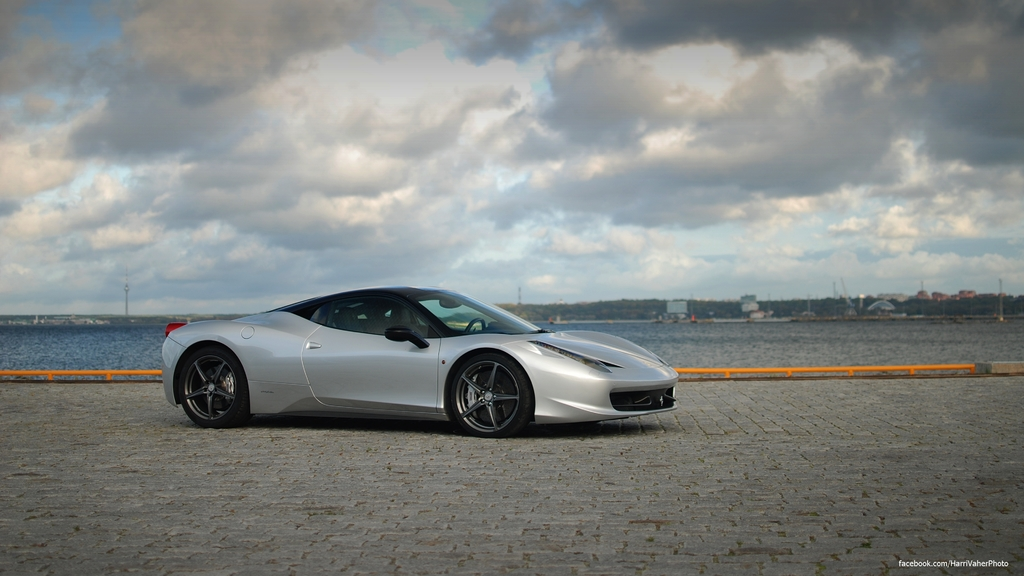Car: (161, 284, 678, 434)
